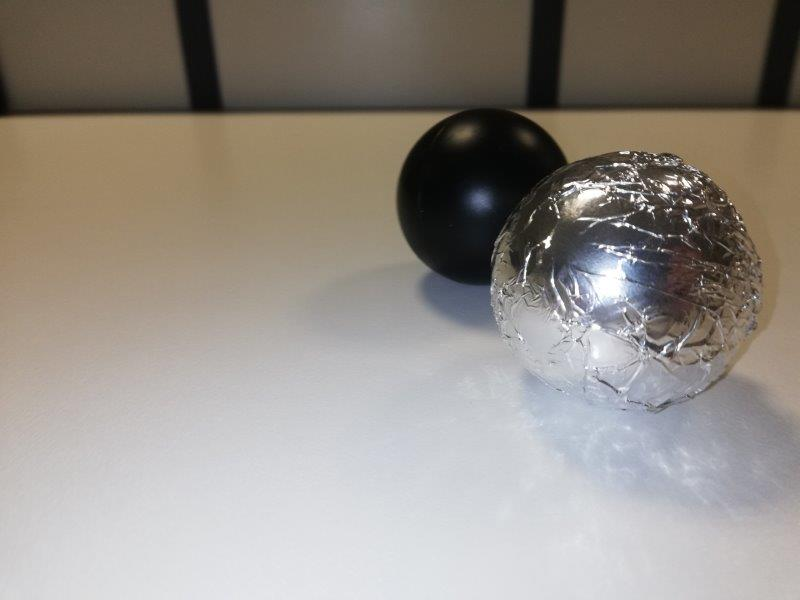bianca: (488, 145, 761, 413)
nera: (398, 108, 569, 289)
